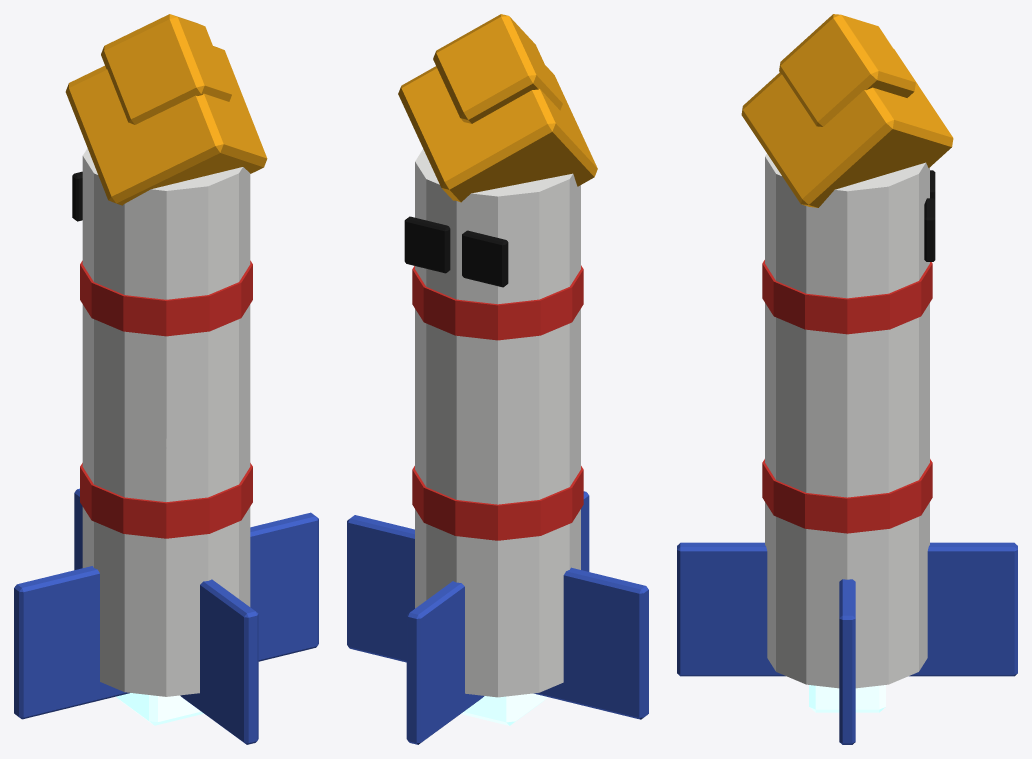
File: tool_nuke.fbx
3 views of the same model, side by side, from view 1: azimuth 30°, elevation 25°; view 2: azimuth 150°, elevation 25°; view 3: azimuth 270°, elevation 25° (orthographic).
Parts seen in each view (by area): view 1: Root, Fins; view 2: Root, Fins; view 3: Root, Fins.
Part boxes in pixels (x1,y1,x2,y2): Root: (65,14,267,725); Fins: (14,488,318,744); Root: (398,14,597,725); Fins: (347,491,648,744); Root: (741,14,953,712); Fins: (677,542,1017,744).
Size of the model in its own units: 6.2 by 13.75 by 6.2.
